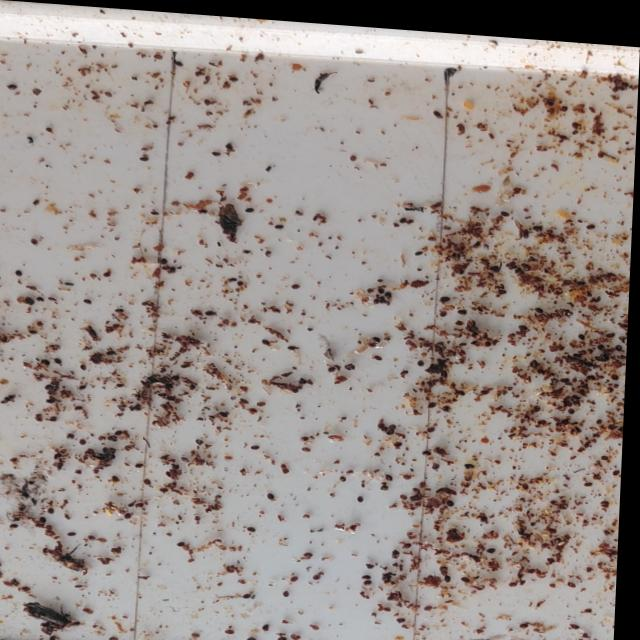varroa: (86, 605, 101, 614), (307, 547, 323, 555), (491, 539, 505, 548), (294, 570, 308, 579), (12, 521, 25, 530), (571, 572, 584, 581), (407, 536, 420, 545), (465, 568, 479, 576), (370, 574, 384, 582), (33, 198, 44, 208), (434, 105, 445, 115), (436, 455, 447, 465), (372, 331, 384, 340), (115, 473, 127, 482), (319, 569, 331, 578), (374, 349, 389, 356), (252, 441, 267, 448), (7, 85, 20, 93), (199, 435, 212, 443), (288, 585, 298, 595), (537, 298, 548, 307), (536, 396, 547, 405), (450, 492, 461, 501), (449, 569, 460, 578), (184, 454, 198, 461), (365, 570, 379, 577), (399, 611, 413, 618), (276, 219, 288, 227), (48, 383, 60, 391), (457, 312, 469, 320), (589, 367, 601, 375), (349, 358, 361, 366), (605, 492, 617, 500), (551, 549, 563, 557), (429, 598, 441, 606), (514, 574, 526, 582), (245, 205, 258, 212), (109, 348, 122, 355), (290, 341, 303, 348), (533, 352, 543, 361), (152, 207, 163, 215), (147, 477, 158, 485), (252, 522, 263, 530), (303, 431, 314, 439), (181, 539, 192, 547), (197, 629, 208, 637), (526, 614, 537, 622), (105, 270, 116, 278), (213, 149, 225, 156), (85, 298, 97, 305), (43, 359, 55, 366), (459, 303, 471, 310), (442, 290, 454, 297), (117, 428, 129, 435), (162, 484, 174, 491), (426, 443, 438, 450), (231, 625, 243, 632), (576, 614, 588, 621), (271, 488, 280, 497), (361, 490, 370, 499), (560, 97, 570, 105), (446, 399, 456, 407), (390, 423, 400, 431), (578, 344, 588, 352), (141, 156, 154, 162), (111, 435, 124, 441), (72, 530, 85, 536), (52, 416, 63, 423), (580, 326, 591, 333), (139, 461, 150, 468), (127, 511, 138, 518), (248, 590, 259, 597), (93, 534, 104, 541), (154, 52, 166, 58), (173, 59, 185, 65), (201, 207, 213, 213), (32, 238, 41, 246), (18, 270, 27, 278), (172, 264, 181, 272), (30, 329, 42, 335), (49, 398, 61, 404), (443, 304, 452, 312), (388, 286, 396, 295), (432, 395, 441, 403), (523, 317, 535, 323), (262, 397, 274, 403), (307, 443, 319, 449), (53, 506, 62, 514), (385, 478, 394, 486), (605, 444, 614, 452), (617, 460, 626, 468), (40, 296, 50, 303), (70, 433, 80, 440), (431, 420, 441, 427), (389, 469, 399, 476), (589, 472, 599, 479), (608, 521, 618, 528), (269, 622, 279, 629), (284, 632, 294, 639), (231, 74, 242, 80), (588, 215, 599, 221), (560, 128, 571, 134), (78, 405, 89, 411), (265, 335, 276, 341), (293, 280, 304, 286), (564, 369, 575, 375), (417, 244, 428, 250), (421, 354, 429, 362), (543, 411, 551, 419), (616, 364, 624, 372), (610, 377, 618, 385), (572, 399, 580, 407), (619, 335, 627, 343), (163, 256, 172, 263), (612, 415, 621, 422), (575, 386, 584, 393), (488, 333, 497, 340), (8, 397, 18, 403), (11, 395, 23, 400), (209, 307, 219, 313), (588, 354, 598, 360), (115, 635, 127, 640), (207, 96, 215, 103), (352, 150, 360, 157), (573, 114, 581, 121), (239, 278, 247, 285), (527, 256, 534, 264), (376, 293, 383, 301), (332, 362, 340, 369), (568, 392, 576, 399), (579, 392, 587, 399), (601, 336, 609, 343), (405, 488, 413, 495), (503, 205, 512, 211), (4, 400, 13, 406), (392, 419, 401, 425), (540, 361, 549, 367), (117, 306, 127, 311), (403, 211, 410, 218), (84, 363, 91, 370), (381, 282, 388, 289), (600, 409, 607, 416), (58, 358, 66, 364), (84, 384, 92, 390), (502, 282, 510, 288), (344, 471, 352, 477), (84, 438, 91, 444), (385, 421, 392, 427), (382, 416, 389, 422), (624, 417, 628, 423), (322, 638, 333, 640), (1, 616, 4, 623)
